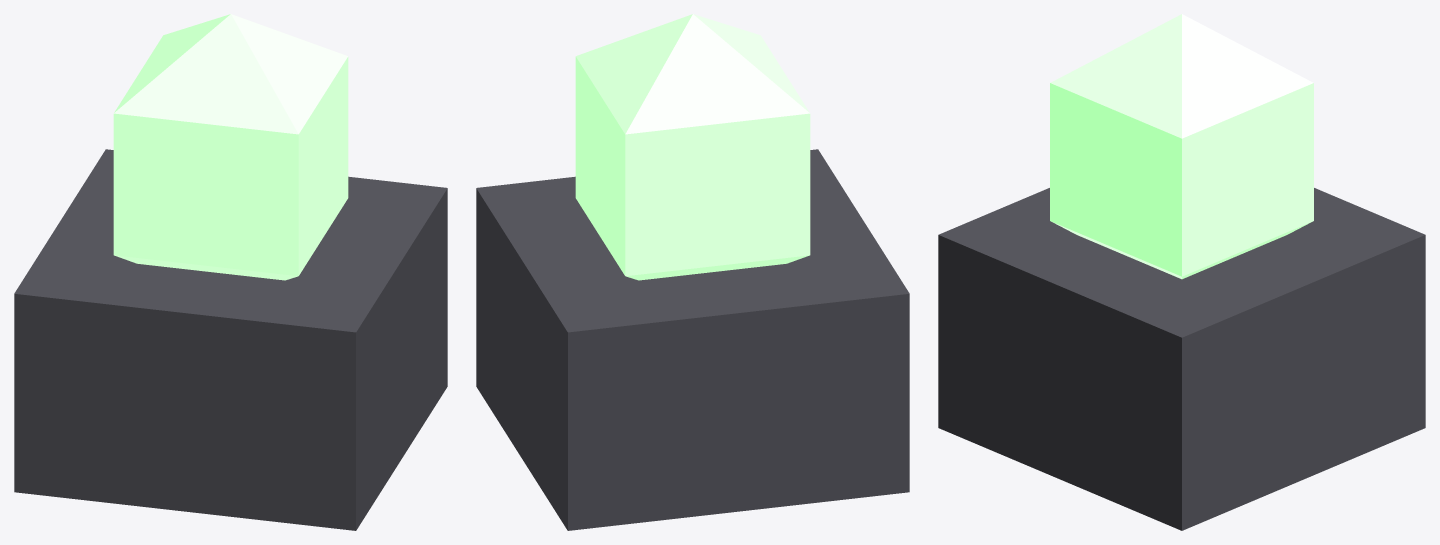
The model's file is tower_poison_lod2.glb.
3 renders of one model, left to right at view 1: azimuth 30°, elevation 25°; view 2: azimuth 150°, elevation 25°; view 3: azimuth 270°, elevation 25°, orthographic. The views are drawn at different scales.
Parts seen in each view (by area): view 1: tower_poison_lod2; view 2: tower_poison_lod2; view 3: tower_poison_lod2.
Boxes of the visible parts, x1=… form: tower_poison_lod2: x1=14, y1=14, x2=447, y2=530; tower_poison_lod2: x1=476, y1=14, x2=909, y2=530; tower_poison_lod2: x1=938, y1=14, x2=1425, y2=530.
Size of the model in its own units: 0.8 by 0.75 by 0.8.
